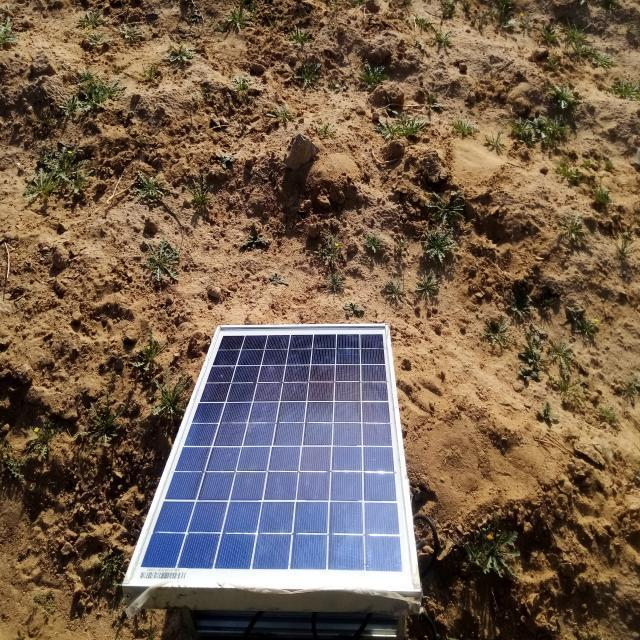Normal Solar Panel: (124, 324, 419, 591)
